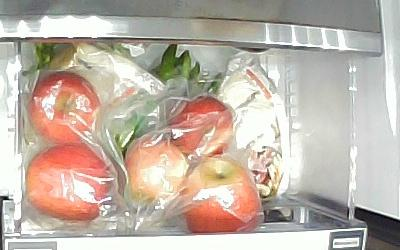apple_vinyl: (26, 145, 113, 222), (183, 158, 260, 234), (25, 71, 100, 147), (168, 94, 235, 162), (124, 138, 187, 207)
